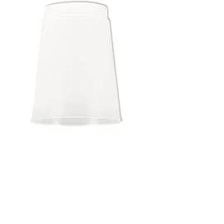glass: (25, 0, 129, 133)
